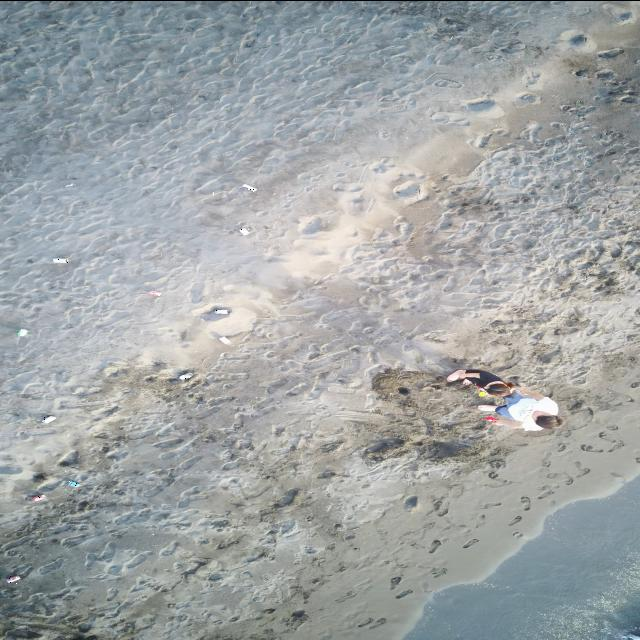Garbage: (200, 306, 231, 320), (56, 449, 79, 466), (241, 183, 256, 191), (40, 415, 55, 423), (5, 575, 20, 583), (52, 256, 68, 263), (219, 335, 231, 344), (30, 493, 45, 500), (180, 372, 192, 380), (212, 307, 230, 312), (148, 289, 160, 296), (16, 327, 26, 335), (65, 480, 77, 486), (240, 227, 247, 235), (477, 390, 486, 395), (484, 416, 495, 420), (64, 183, 74, 187), (211, 192, 215, 196)
